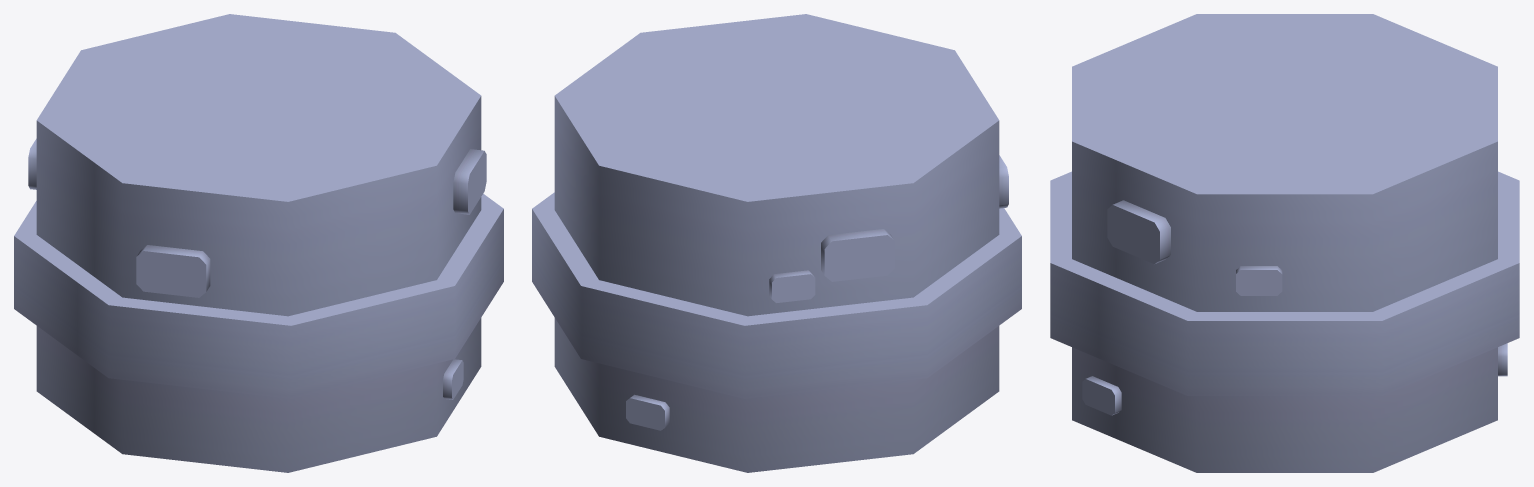
The model's file is kenney-pirate-tower-middle.glb.
3 renders of one model, left to right at view 1: azimuth 30°, elevation 25°; view 2: azimuth 150°, elevation 25°; view 3: azimuth 270°, elevation 25°, orthographic. The views are drawn at different scales.
Visible parts, largest first — view 1: tower-middle; view 2: tower-middle; view 3: tower-middle.
Part boxes in pixels (x1,y1,x2,y2): tower-middle: (14, 14, 503, 472); tower-middle: (532, 14, 1021, 472); tower-middle: (1050, 14, 1519, 472).
Size of the model in its own units: 3.05 by 2 by 3.05.
Materials: 1 (1 with a texture image).
